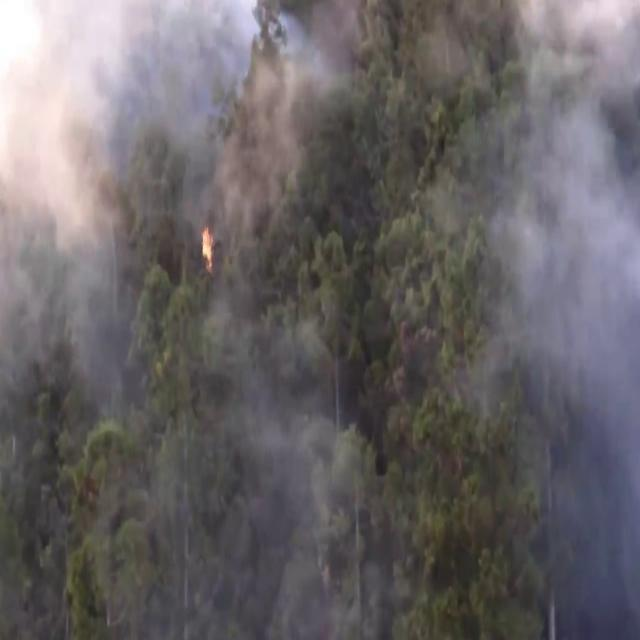Fire: (198, 220, 216, 274)
Smoke: (422, 0, 640, 619), (0, 4, 252, 337), (225, 0, 343, 216)
